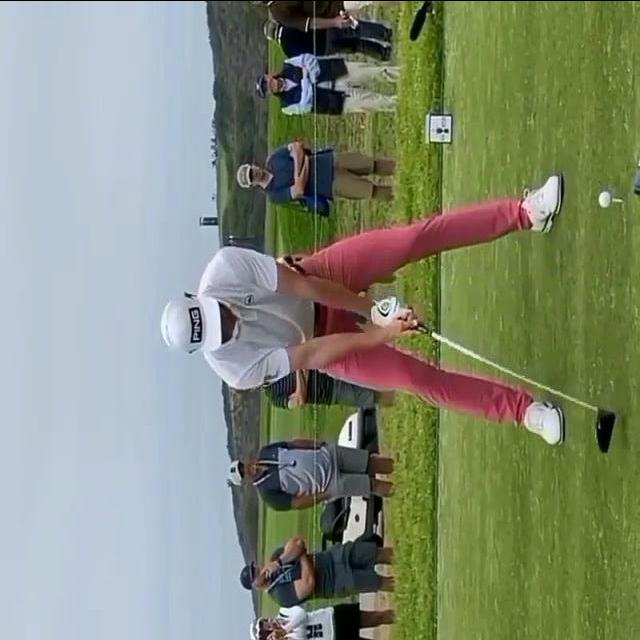ClubHandle: (416, 320, 616, 452)
ClubHead: (595, 407, 616, 452)
GolfBall: (598, 189, 612, 207)
